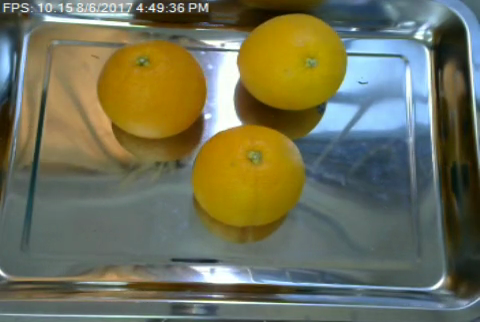Orange: (191, 125, 304, 227), (237, 14, 349, 110), (97, 40, 206, 138)
